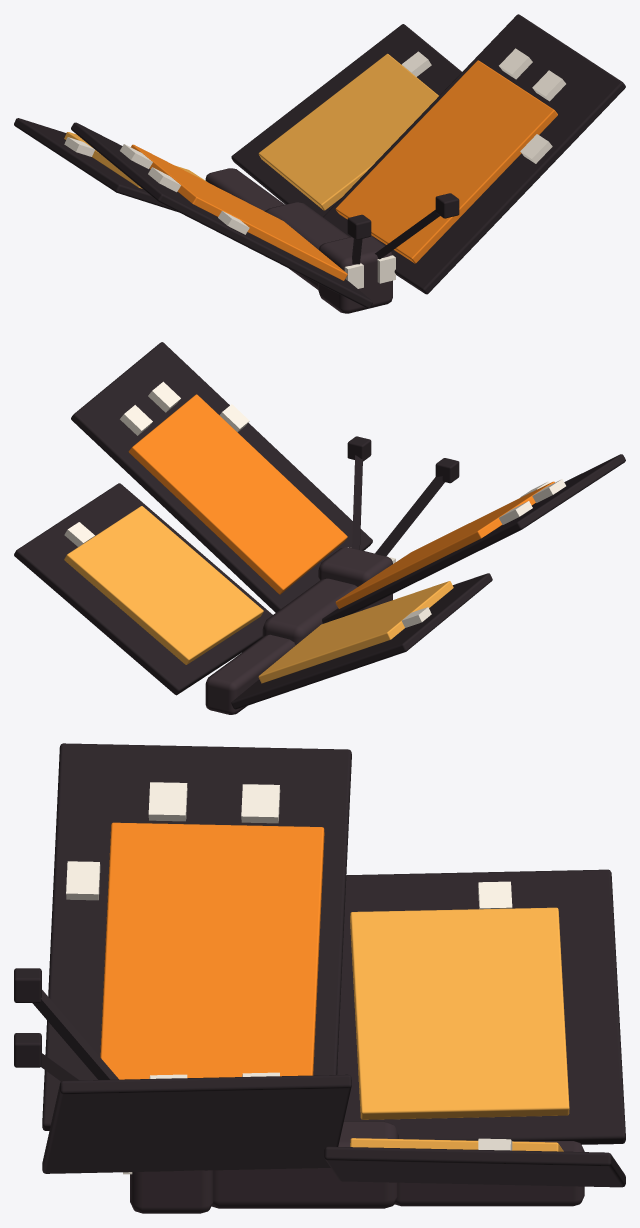
The model's file is butterflyA.glb.
3 renders of one model, top to bottom at view 1: azimuth 30°, elevation 25°; view 2: azimuth 150°, elevation 25°; view 3: azimuth 270°, elevation 25°, orthographic. The views are drawn at different scales.
Visible parts, largest first — view 1: butterfly; view 2: butterfly; view 3: butterfly.
Boxes of the visible parts, <box> form: butterfly: <box>14,14,625,313</box>; butterfly: <box>14,342,625,714</box>; butterfly: <box>14,743,625,1213</box>.
Bounding box in the file's own units: 1.36 × 0.5283 × 1.02.
Materials: 1 (1 with a texture image).
